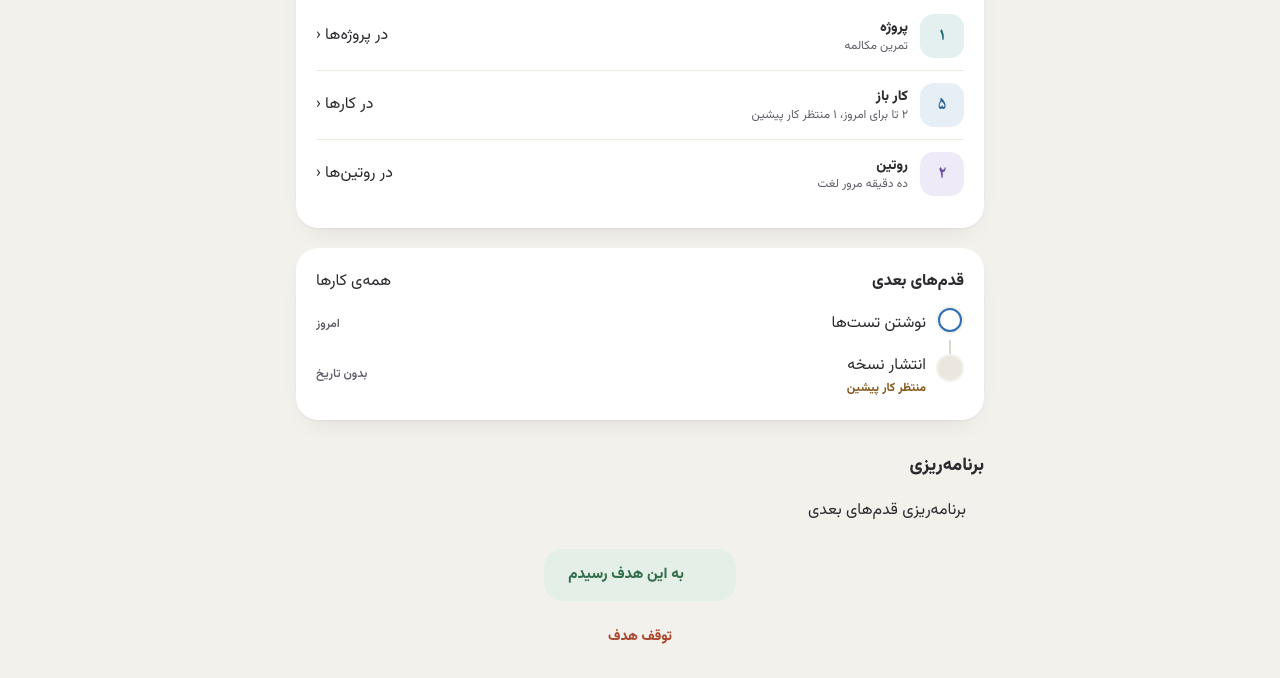
GoalDetailView › requires a fresh preview before an explicit terminal command
The image size is (1280, 678).
(page scrolled)
Click the button "توقف هدف".
click(640, 637)  # box [588,613,692,661]
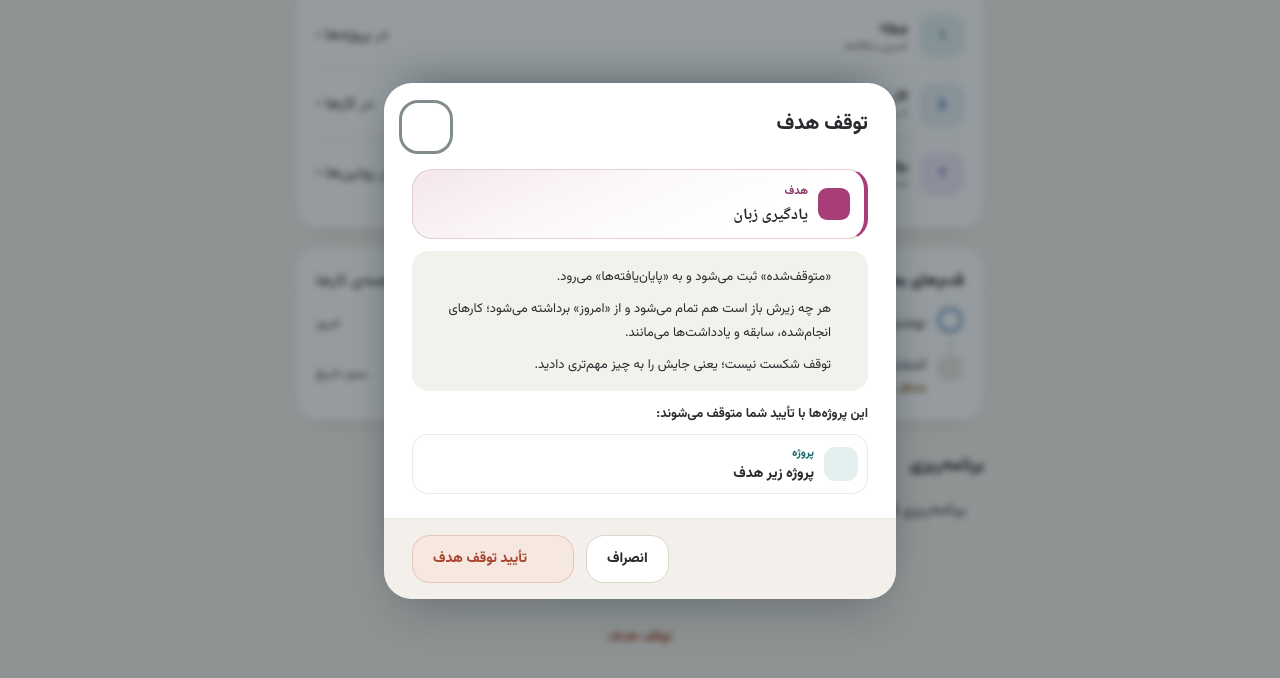
Check: the list item "توقف شکست نیست؛ یعنی جایش را به چیز مهم‌تری دادید." is shown, box [534,355,831,375]
Check: the text "این پروژه‌ها با تأیید شما متوقف می‌شوند:" is shown, box [656,404,868,424]
Check: the text "پروژه زیر هدف" is shown, box [733,463,814,485]
Click the button "تأیید توقف هدف".
click(493, 559)  # box [412,535,574,583]
(page scrolled)
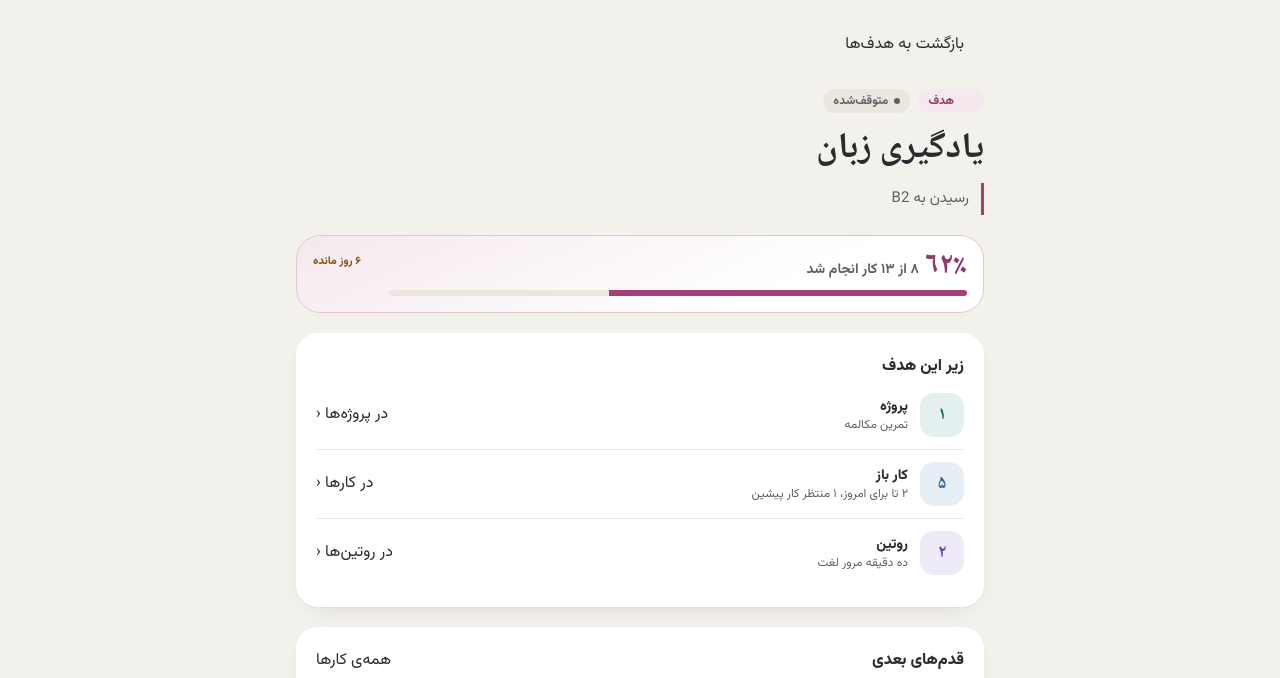
Check: the text "متوقف‌شده" is shown, box [823,89,910,113]
